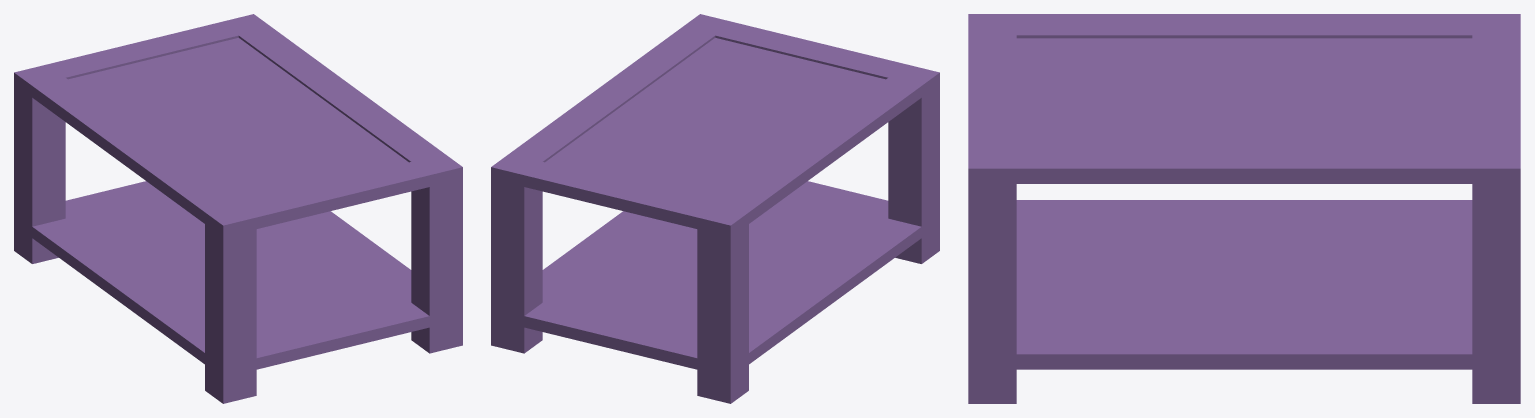
Rendered from mesa ratona.fbx.
3 views of the same model, side by side, from view 1: azimuth 30°, elevation 25°; view 2: azimuth 150°, elevation 25°; view 3: azimuth 270°, elevation 25° (orthographic). The views are drawn at different scales.
Parts seen in each view (by area): view 1: mesa_ratona4; view 2: mesa_ratona4; view 3: mesa_ratona4.
Boxes of the visible parts, left/top/right/bottom form: mesa_ratona4: left=14, top=14, right=462, bottom=403; mesa_ratona4: left=491, top=14, right=939, bottom=403; mesa_ratona4: left=968, top=14, right=1520, bottom=403.
Size of the model in its own units: 0.8587 by 0.6103 by 1.3.
